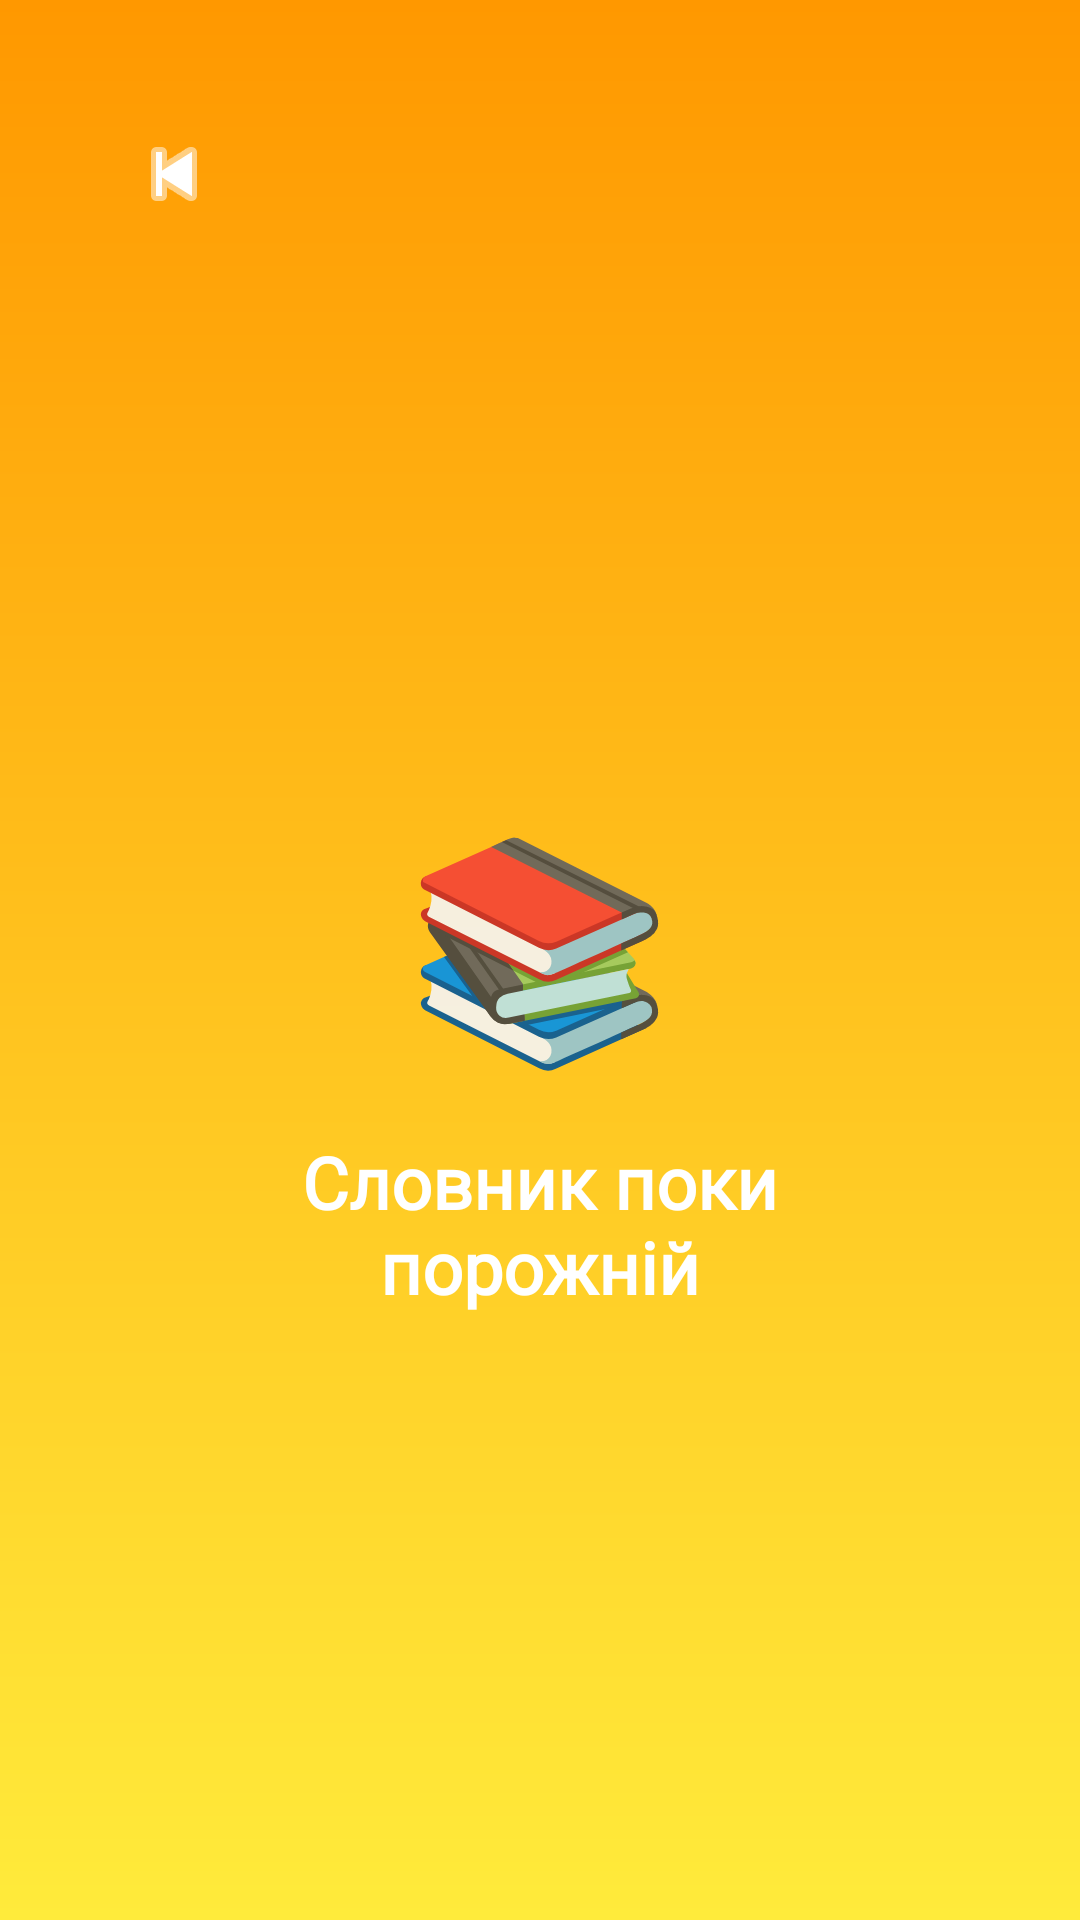

Icon bounding boxes for this 1080×1920 phone screenshot, format [left=x1, top=y1, right=x2, bottom=y2]:
Назад: [left=151, top=147, right=197, bottom=201]
